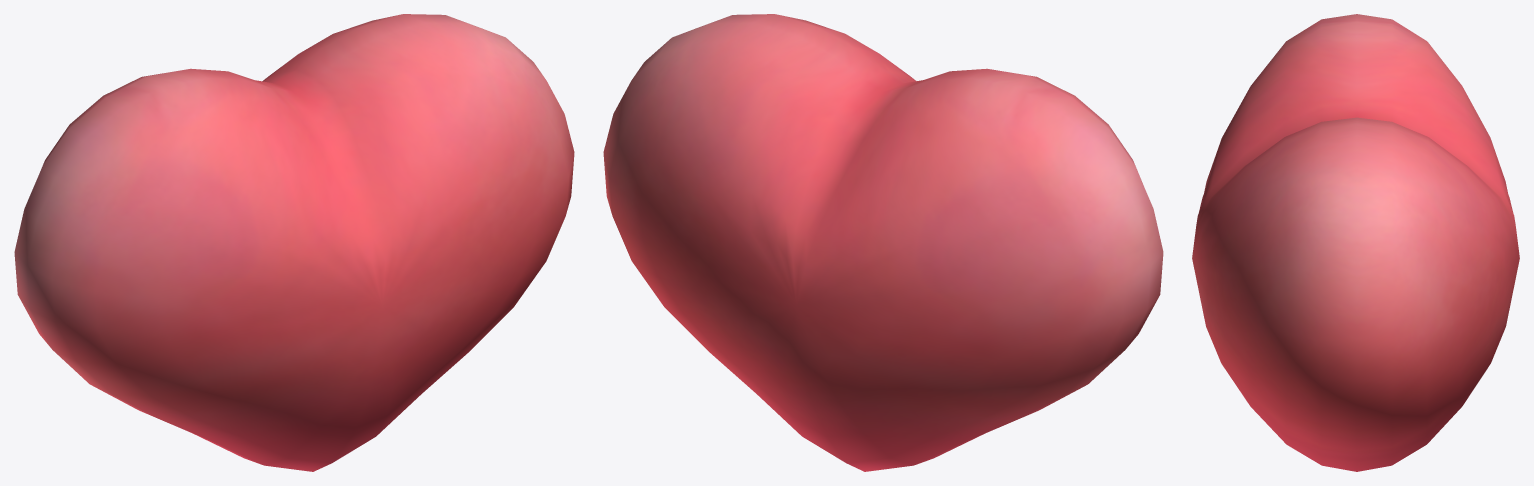
The model's file is BUFF_huixue.FBX.
3 views of the same model, side by side, from view 1: azimuth 30°, elevation 25°; view 2: azimuth 150°, elevation 25°; view 3: azimuth 270°, elevation 25° (orthographic). The views are drawn at different scales.
Parts seen in each view (by area): view 1: Line002; view 2: Line002; view 3: Line002.
Part boxes in pixels (x1,y1,x2,y2): Line002: (14,14,574,471); Line002: (603,14,1163,471); Line002: (1192,14,1519,471).
Size of the model in its own units: 19.4 by 14.22 by 11.
